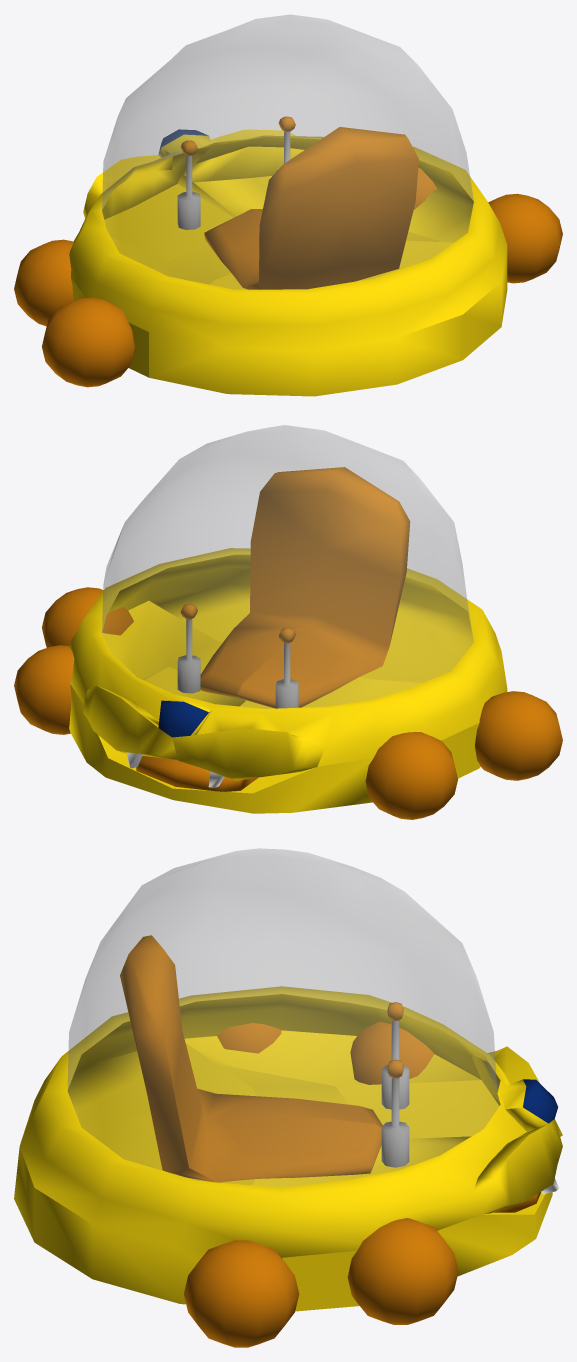
Rendered from Nave_Menor 1.fbx.
The picture shows the model from 3 angles, top to bottom: view 1: azimuth 30°, elevation 25°; view 2: azimuth 150°, elevation 25°; view 3: azimuth 270°, elevation 25°; orthographic projection. The views are drawn at different scales.
Visible parts, largest first — view 1: Navezinha; view 2: Navezinha; view 3: Navezinha.
Boxes of the visible parts, x1,y1,x2,y2 form: Navezinha: [14, 14, 562, 396]; Navezinha: [14, 425, 562, 819]; Navezinha: [14, 848, 562, 1347].
Bounding box in the file's own units: 304 × 162 × 238.
